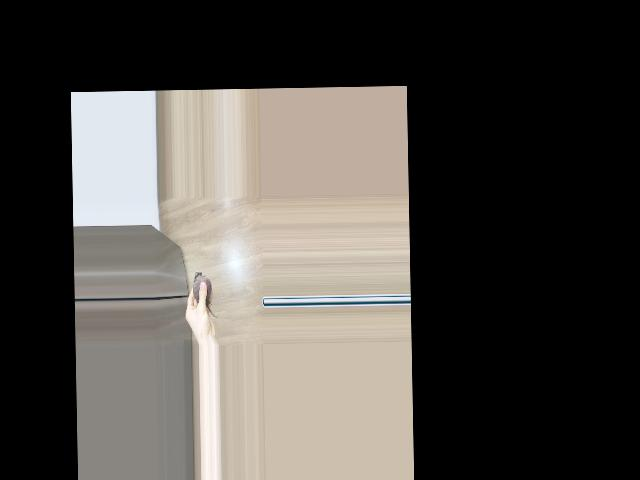beet: (192, 270, 218, 317)
